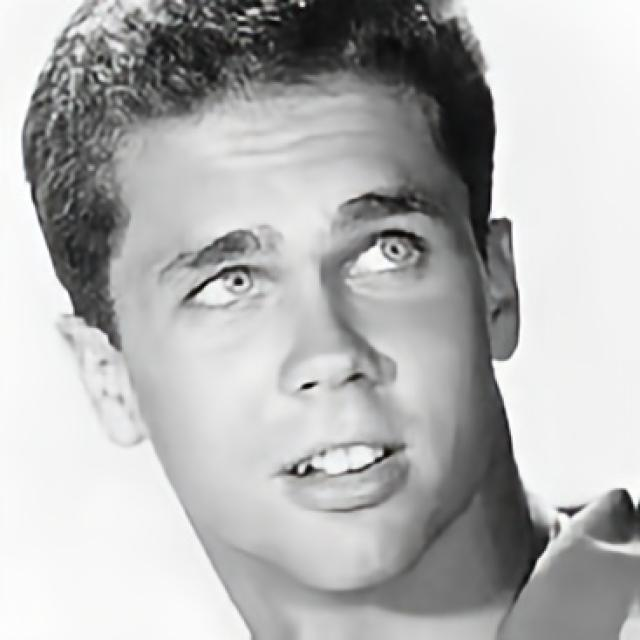surprise: (110, 69, 485, 592)
